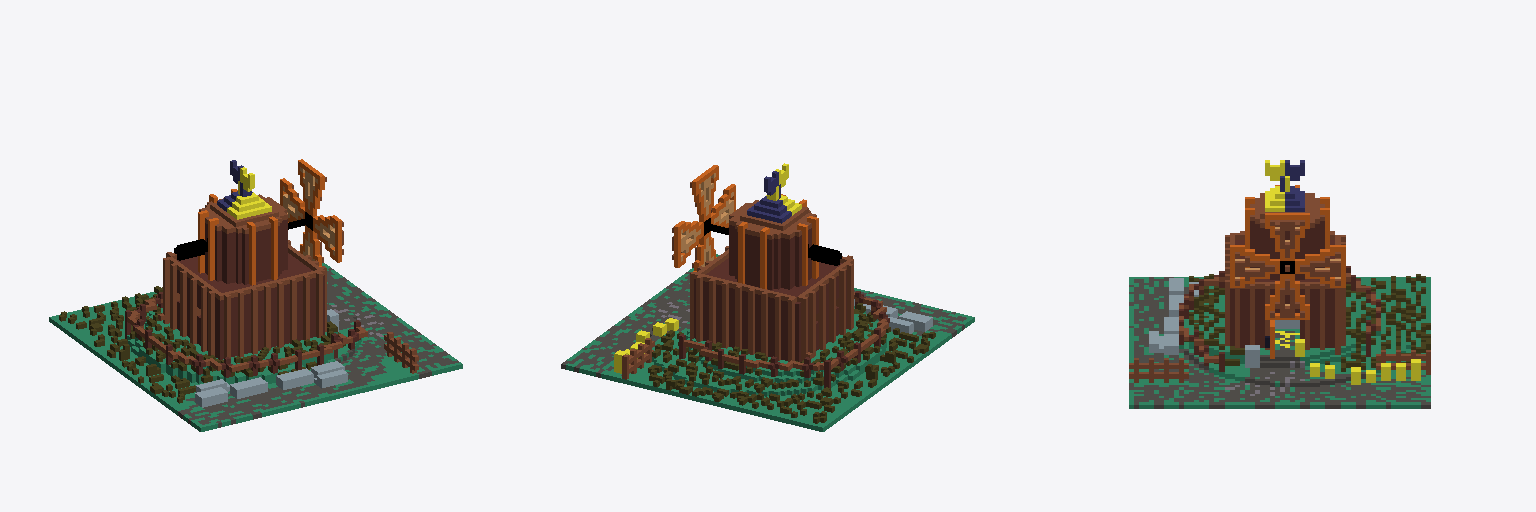
The picture shows the model from 3 angles: view 1: azimuth 30°, elevation 25°; view 2: azimuth 150°, elevation 25°; view 3: azimuth 270°, elevation 25°; orthographic projection.
Parts seen in each view (by area): view 1: object 1; view 2: object 1; view 3: object 1.
Part boxes in pixels (bbox=[...]): object 1: bbox=[49, 159, 462, 431]; object 1: bbox=[561, 163, 974, 431]; object 1: bbox=[1129, 160, 1430, 408].
Bounding box in the file's own units: 6 × 3.9 × 6.
1 materials, 1 textured.